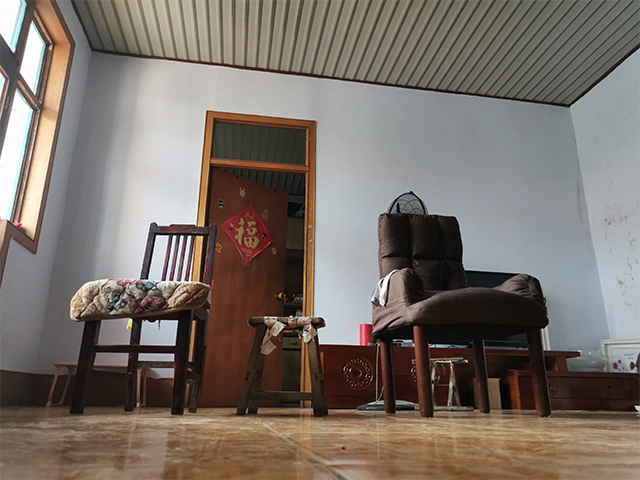stool: (370, 211, 551, 420), (67, 221, 218, 417), (233, 312, 330, 418), (42, 361, 155, 407)
